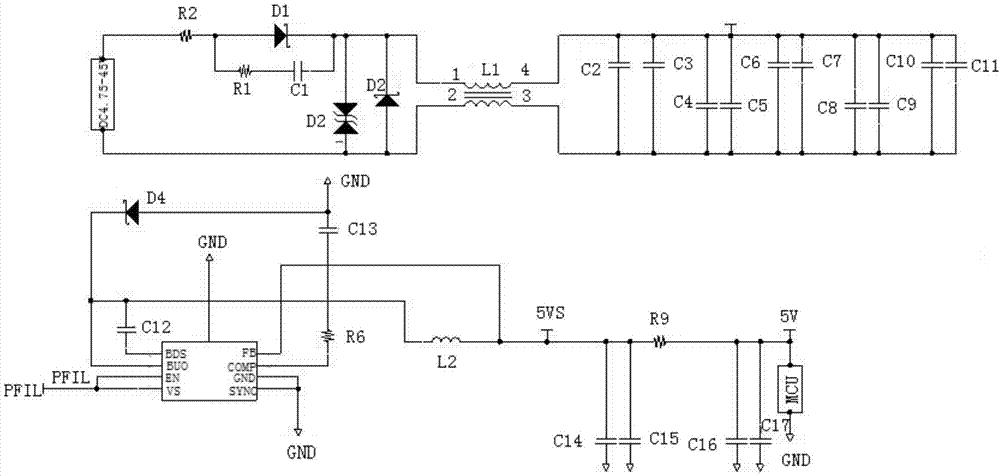cap1: (620, 431, 643, 454), (791, 55, 817, 75), (288, 59, 307, 85), (722, 433, 751, 450), (112, 322, 139, 340), (764, 55, 791, 73), (594, 432, 619, 451), (607, 58, 633, 75), (719, 98, 745, 114), (868, 99, 892, 115), (944, 59, 971, 73), (694, 98, 719, 113), (641, 60, 669, 73), (918, 59, 946, 72), (750, 435, 774, 450), (843, 99, 867, 113), (318, 225, 342, 238)
diode: (266, 19, 296, 51), (121, 195, 142, 230), (329, 98, 363, 118), (372, 90, 403, 110), (329, 121, 362, 137)
inductance: (424, 333, 469, 350)
res2: (319, 323, 338, 350), (233, 62, 257, 81), (172, 26, 198, 43), (651, 333, 669, 351)
trans: (455, 76, 521, 113)
